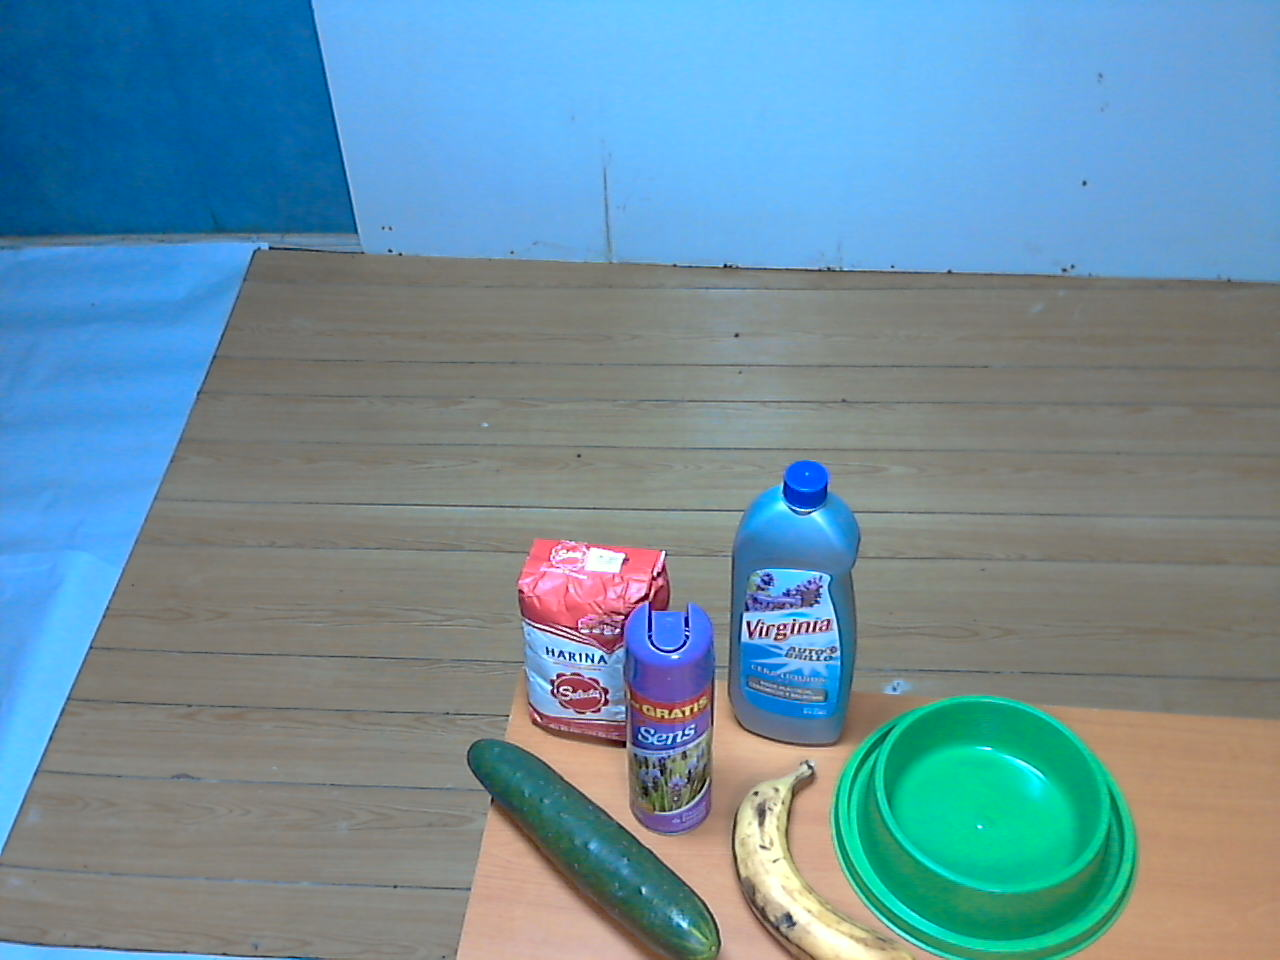aerosol: (611, 594, 732, 850)
cera: (716, 459, 875, 765)
harina: (507, 526, 685, 770)
pepino: (454, 728, 735, 960)
platano: (719, 750, 921, 960)
platoperro: (826, 685, 1151, 960)
